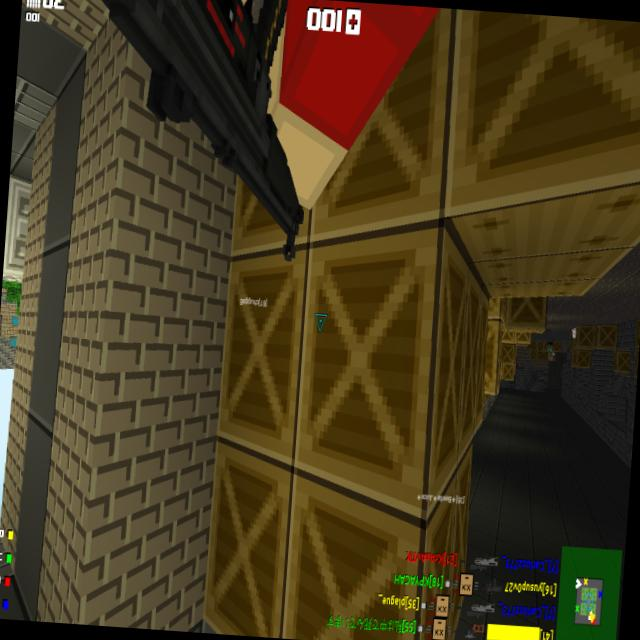enemy: (546, 341, 555, 361)
